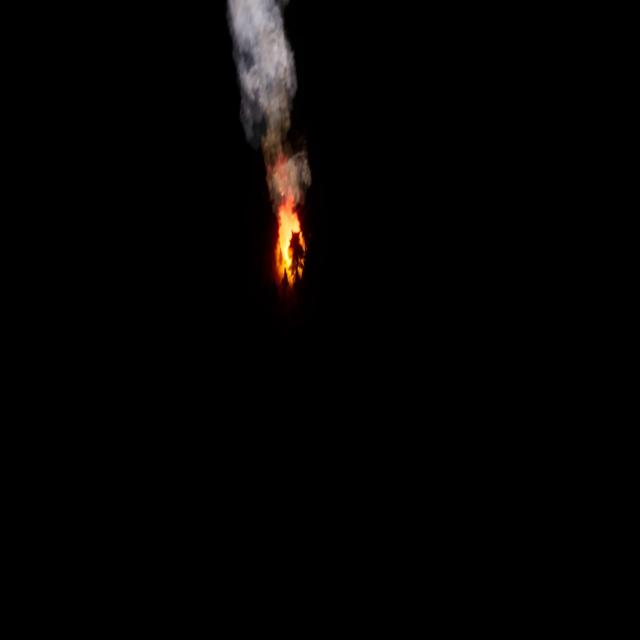fire: (272, 200, 310, 277)
smoke: (229, 0, 317, 203)
